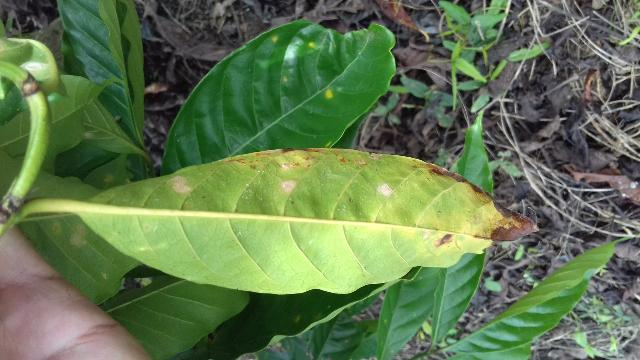rust_level_1: (74, 141, 545, 298)
